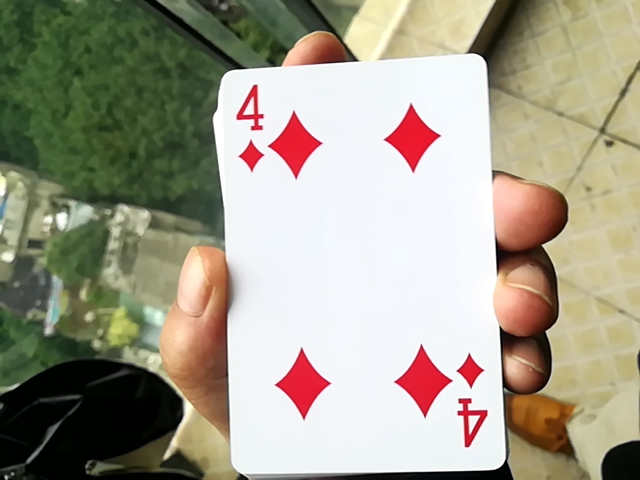fk 4: (213, 35, 494, 479)
